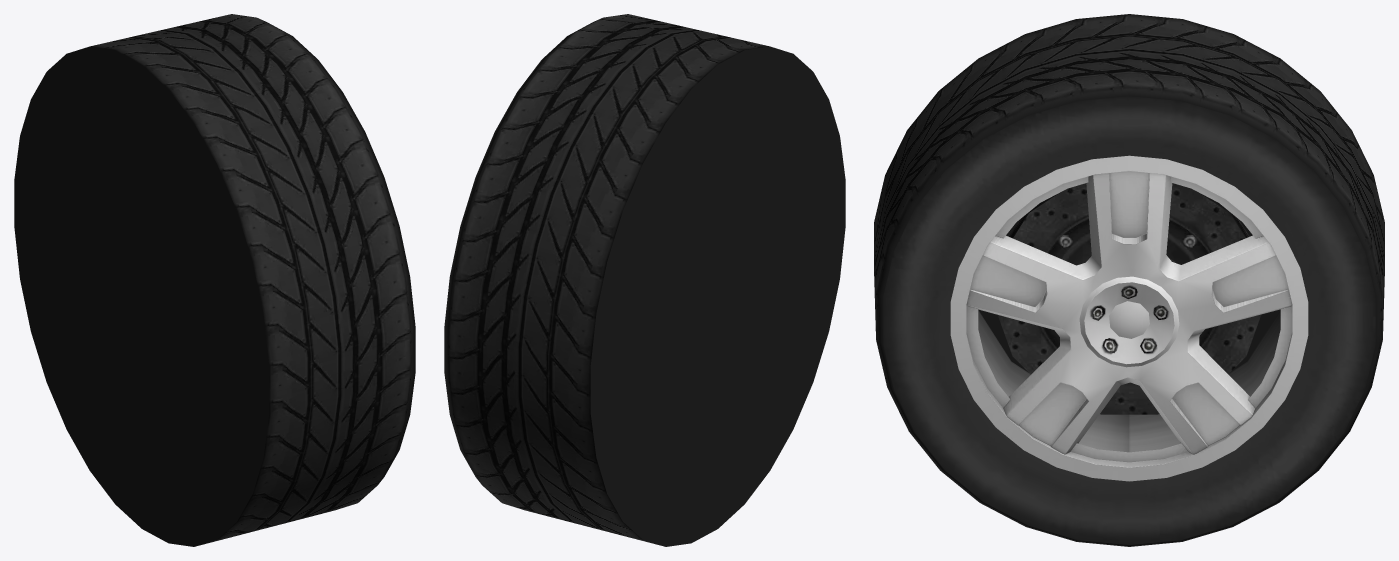
Rendered from std_victory_wheel.fbx.
The picture shows the model from 3 angles, left to right: view 1: azimuth 30°, elevation 25°; view 2: azimuth 150°, elevation 25°; view 3: azimuth 270°, elevation 25°; orthographic projection.
Parts seen in each view (by area): view 1: Wheel_lod0; view 2: Wheel_lod0; view 3: Wheel_lod0.
Boxes of the visible parts, x1,y1,x2,y2 form: Wheel_lod0: (14, 14, 415, 546); Wheel_lod0: (444, 14, 845, 546); Wheel_lod0: (874, 14, 1384, 546).
Size of what is drawn, in the model's own units: 24.02 by 67.18 by 66.82.
